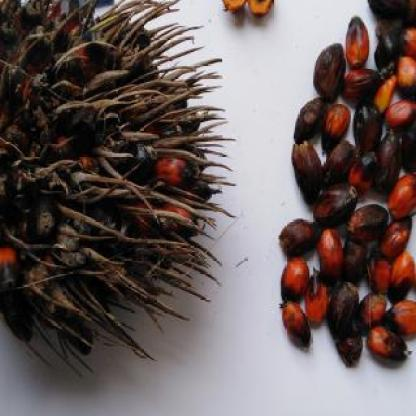Unripe: (0, 0, 235, 388)
